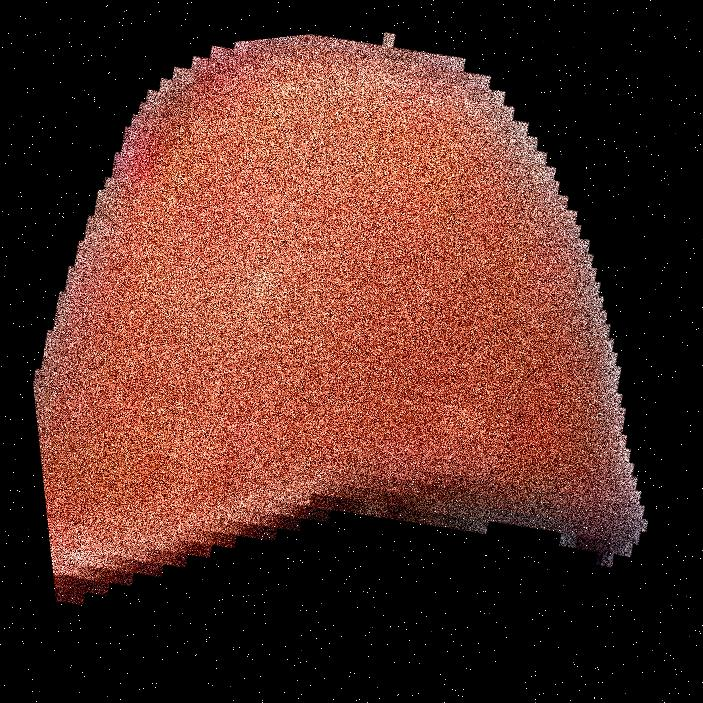Capacete: (77, 0, 493, 702)
